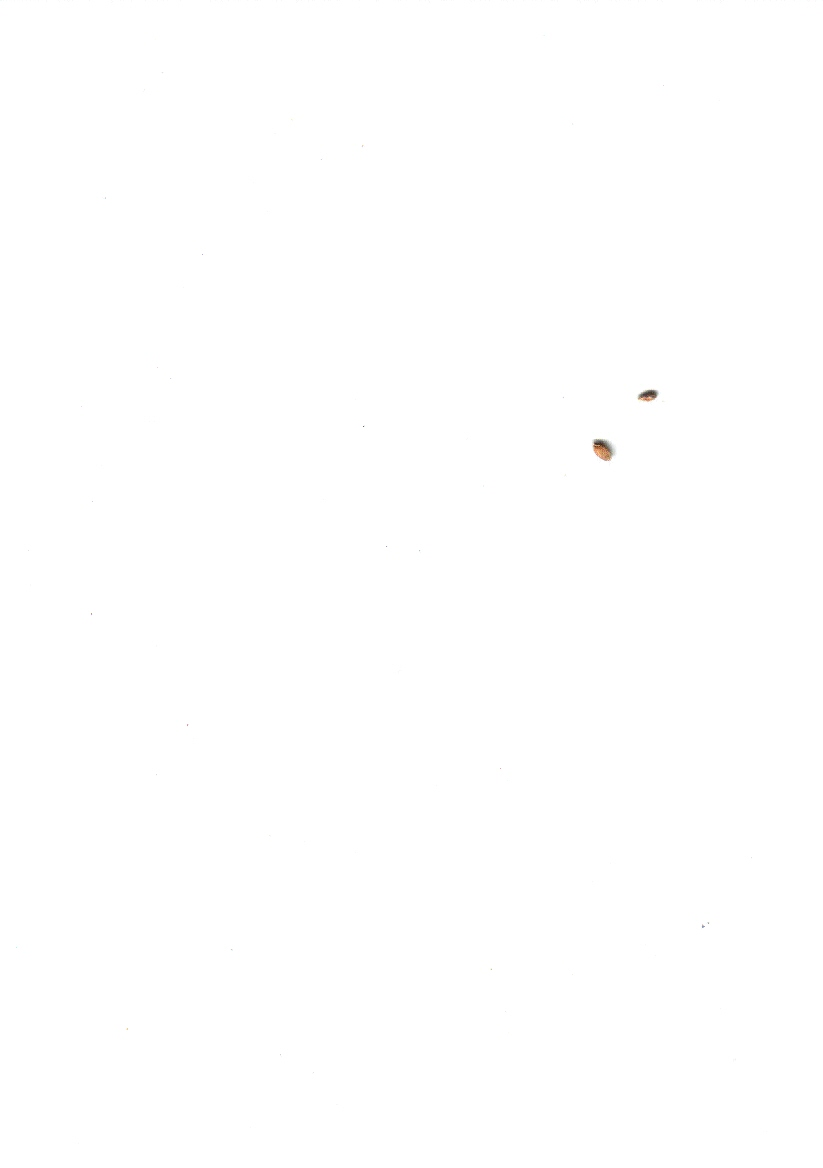grains: (579, 429, 620, 471), (631, 377, 663, 408)
